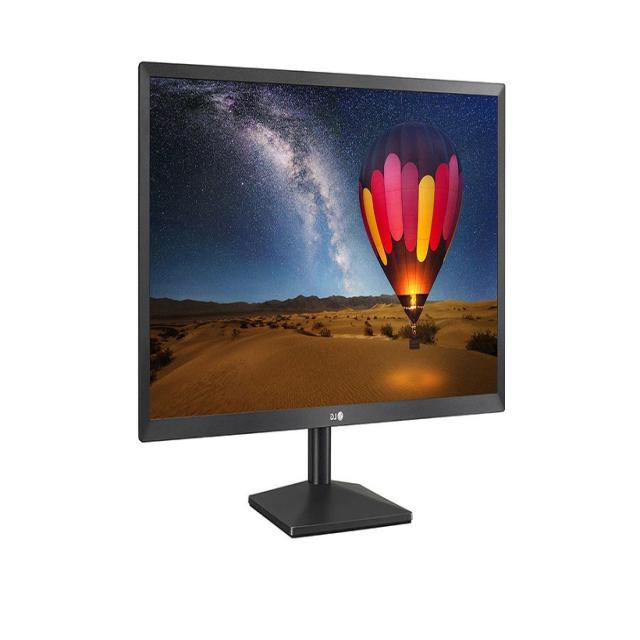monitor: (109, 33, 539, 622)
